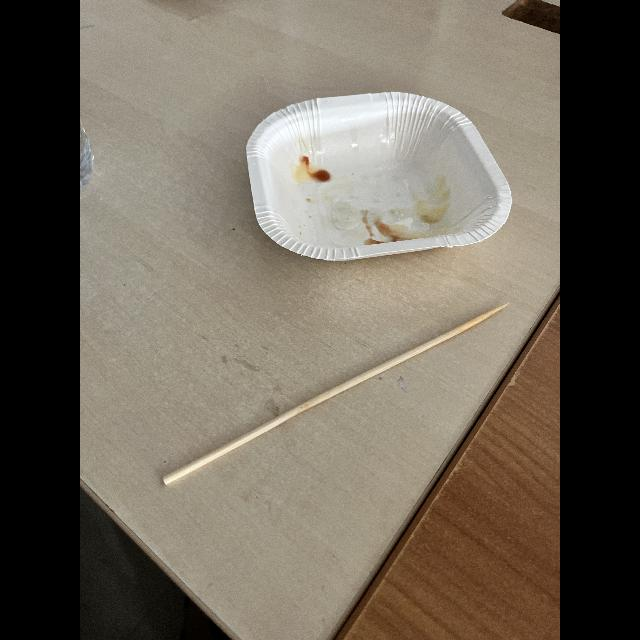cardboard_bowl: (226, 81, 518, 273)
stick: (154, 300, 511, 488)
